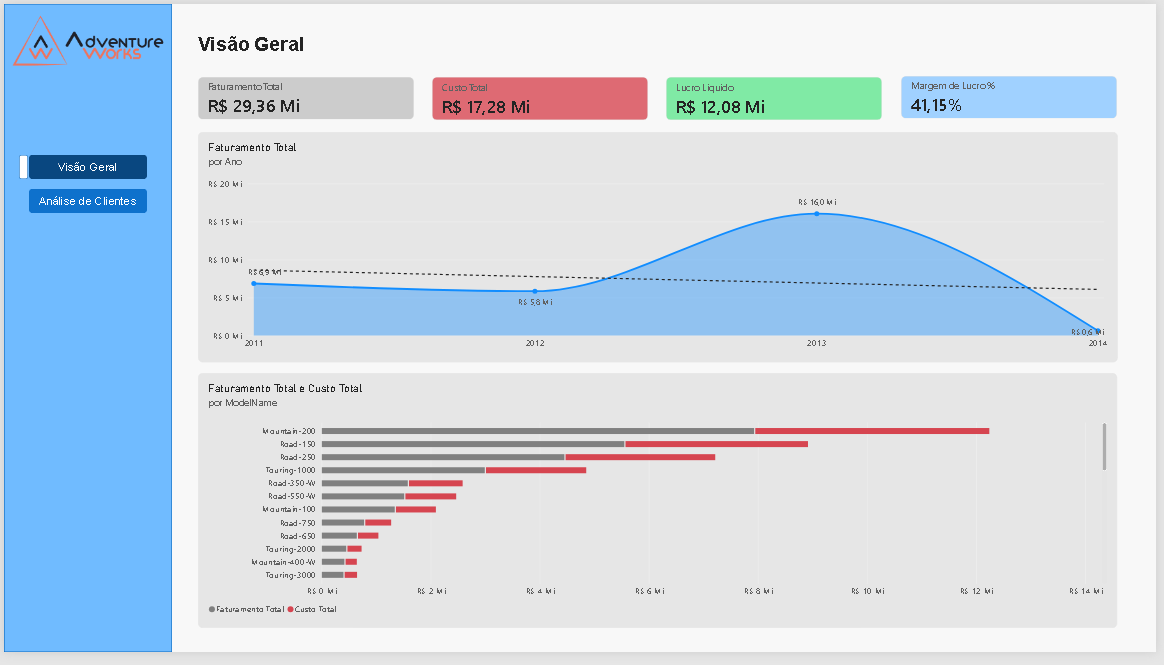

The dashboard page shown, as its layout file describes it:
{"tool":"powerbi","page":{"name":"Visão Geral","canvas":[1920,1080],"ordinal":0},"visuals":[{"type":"shape","box":[0,0,280,1080],"z":0},{"type":"image","box":[0,0,280,122],"z":1000},{"type":"textbox","box":[323.3,48.3,360,40],"z":2000},{"type":"cardVisual","fields":{"Data":["FactInternetSales.Faturamento Total"]},"box":[323.3,121.7,360,71.7],"z":3000},{"type":"cardVisual","fields":{"Data":["FactInternetSales.Custo Total"]},"box":[712.5,121.2,360,72],"z":4000},{"type":"cardVisual","fields":{"Data":["FactInternetSales.Lucro Liquido"]},"box":[1103.8,121.2,360,72],"z":5000},{"type":"cardVisual","fields":{"Data":["FactInternetSales.Margem de Lucro %"]},"box":[1495,120,360,71.7],"z":6000},{"type":"lineChart","title":"Evolução do Faturamento","fields":{"Category":["DimDate.FullDateAlternateKey.Variation.Hierarquia de datas.Ano","DimDate.FullDateAlternateKey.Variation.Hierarquia de datas.Trimestre","DimDate.FullDateAlternateKey.Variation.Hierarquia de datas.Mês","DimDate.FullDateAlternateKey.Variation.Hierarquia de datas.Dia"],"Y":["FactInternetSales.Faturamento Total"]},"box":[322.9,212.9,1532.9,384.3],"z":7000},{"type":"barChart","title":"Faturamento e Custo por Modelo","fields":{"Category":["DimProduct.ModelName"],"Y":["FactInternetSales.Faturamento Total","FactInternetSales.Custo Total"]},"box":[323.3,615,1531.7,425],"z":8000},{"type":"actionButton","box":[41.7,250.8,196.7,40],"z":9000},{"type":"actionButton","box":[41.7,308.3,196.7,40],"z":10000},{"type":"shape","box":[25,251.5,12,40],"z":11000},{"type":"actionButton","box":[41.7,361.2,196.7,40],"z":11001}]}

Visuals, with their boxes on the page's 1920x1080 design canvas (x1, y1, x2, y2). These are canvas units, not pixel positions in the 1164x665 screenshot, which may show the page scaled, cropped or inside an application window:
shape: bbox=(0, 0, 280, 1080)
image: bbox=(0, 0, 280, 122)
textbox: bbox=(323, 48, 683, 88)
cardVisual - FactInternetSales.Faturamento Total: bbox=(323, 122, 683, 193)
cardVisual - FactInternetSales.Custo Total: bbox=(712, 121, 1072, 193)
cardVisual - FactInternetSales.Lucro Liquido: bbox=(1104, 121, 1464, 193)
cardVisual - FactInternetSales.Margem de Lucro %: bbox=(1495, 120, 1855, 192)
"Evolução do Faturamento" lineChart: bbox=(323, 213, 1856, 597)
"Faturamento e Custo por Modelo" barChart: bbox=(323, 615, 1855, 1040)
actionButton: bbox=(42, 251, 238, 291)
actionButton: bbox=(42, 308, 238, 348)
shape: bbox=(25, 252, 37, 292)
actionButton: bbox=(42, 361, 238, 401)
